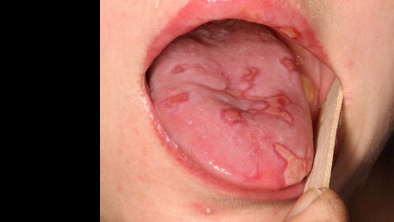SJS-TEN: (216, 59, 300, 131), (269, 133, 323, 193), (274, 47, 327, 106), (268, 7, 309, 51), (161, 88, 196, 111)
